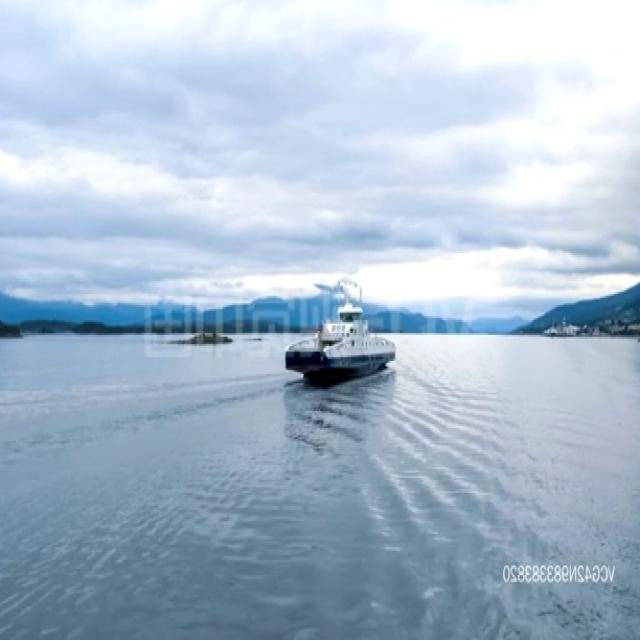houseboat: (286, 294, 398, 386)
